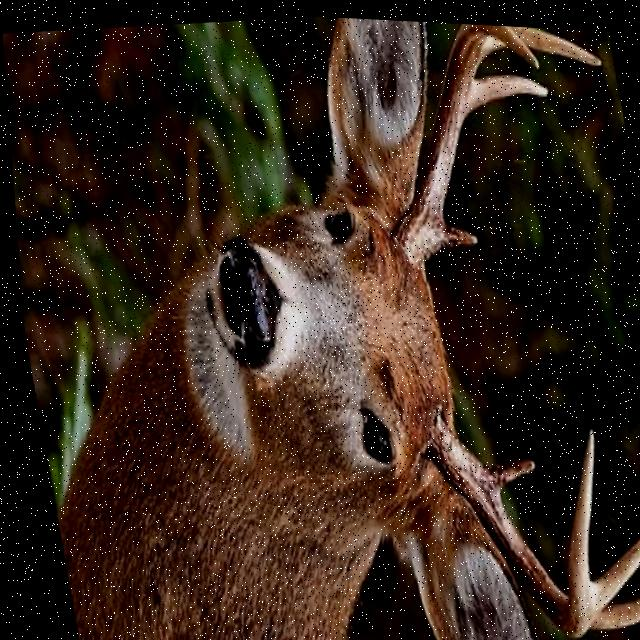L-F: (388, 19, 540, 267)
L-G1: (430, 213, 475, 248)
L-G2: (461, 65, 548, 115)
R-F: (417, 404, 589, 631)
R-G1: (474, 451, 530, 486)
R-G2: (580, 583, 640, 626)
R-G3: (581, 519, 640, 608)
